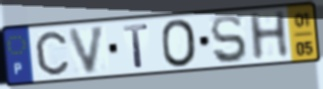C: (33, 29, 71, 77)
H: (246, 9, 292, 64)
O: (159, 17, 199, 69)
S: (209, 13, 249, 65)
T: (121, 22, 151, 69)
V: (66, 23, 108, 76)
